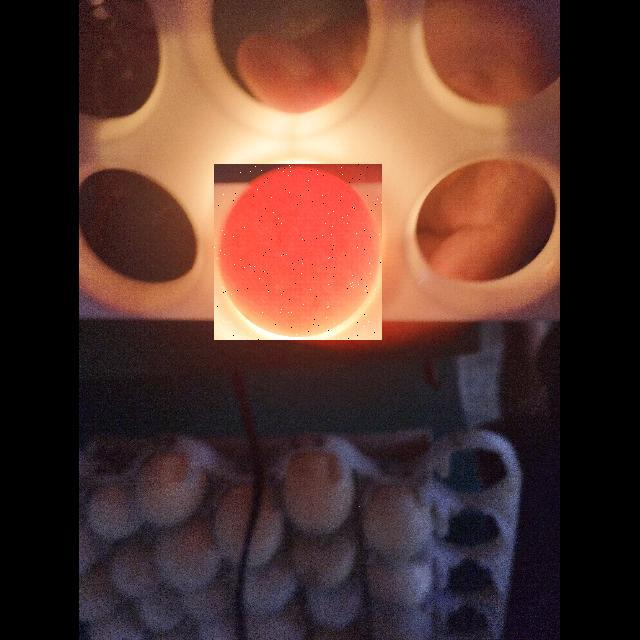A - Good: (214, 164, 382, 340)
